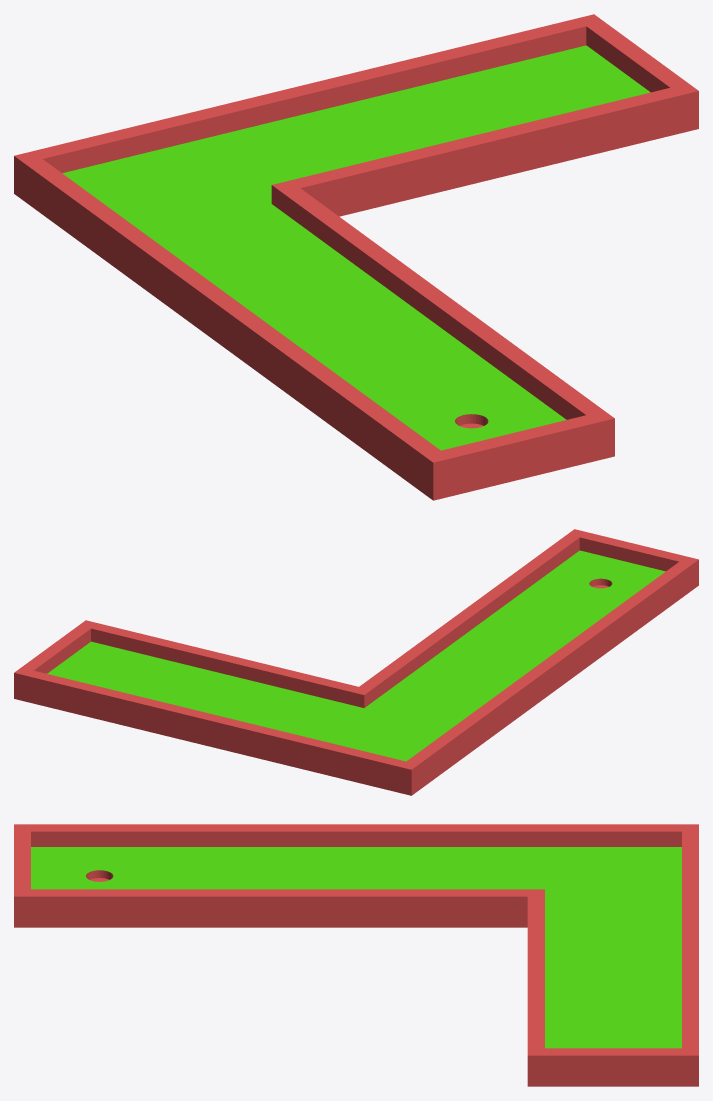
File: Course2.glb
The picture shows the model from 3 angles, top to bottom: view 1: azimuth 30°, elevation 25°; view 2: azimuth 150°, elevation 25°; view 3: azimuth 270°, elevation 25°; orthographic projection. The views are drawn at different scales.
Visible parts, largest first — view 1: Cube; view 2: Cube; view 3: Cube.
Part boxes in pixels (x1,y1,x2,y2): Cube: [14, 14, 698, 500]; Cube: [14, 529, 698, 795]; Cube: [14, 824, 698, 1086].
Size of the model in its own units: 3.19 by 0.2 by 4.
